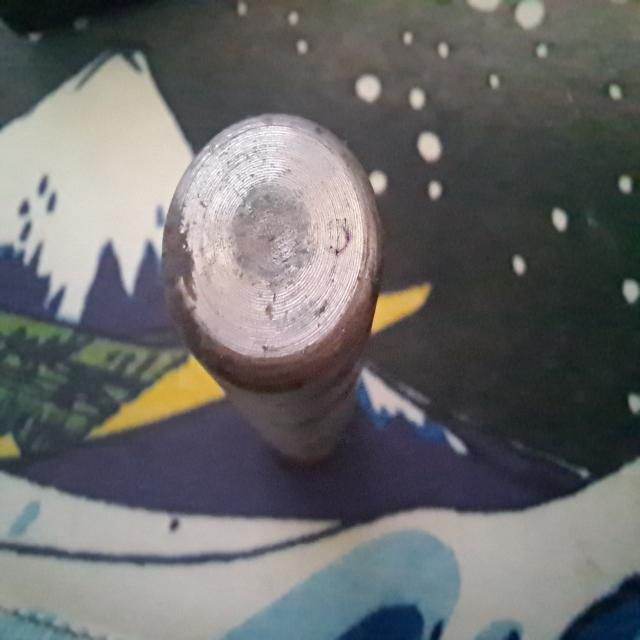defect: (317, 223, 355, 259)
planson: (161, 112, 385, 465)
